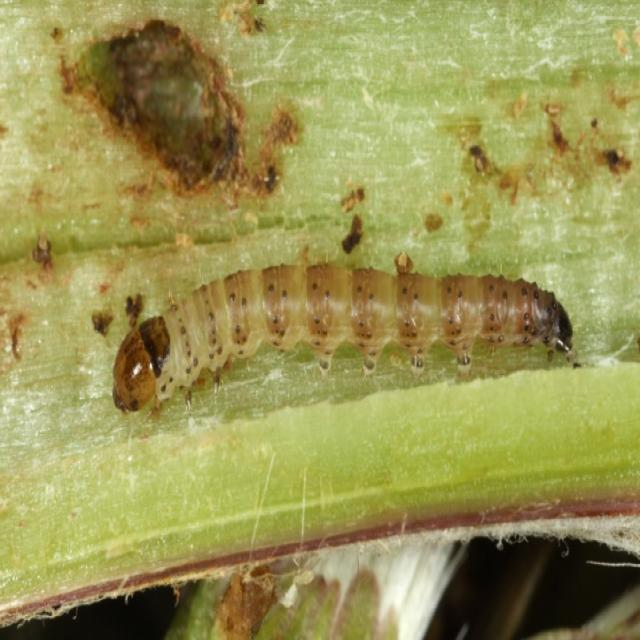cornborer-Larva-: (106, 247, 594, 442)
